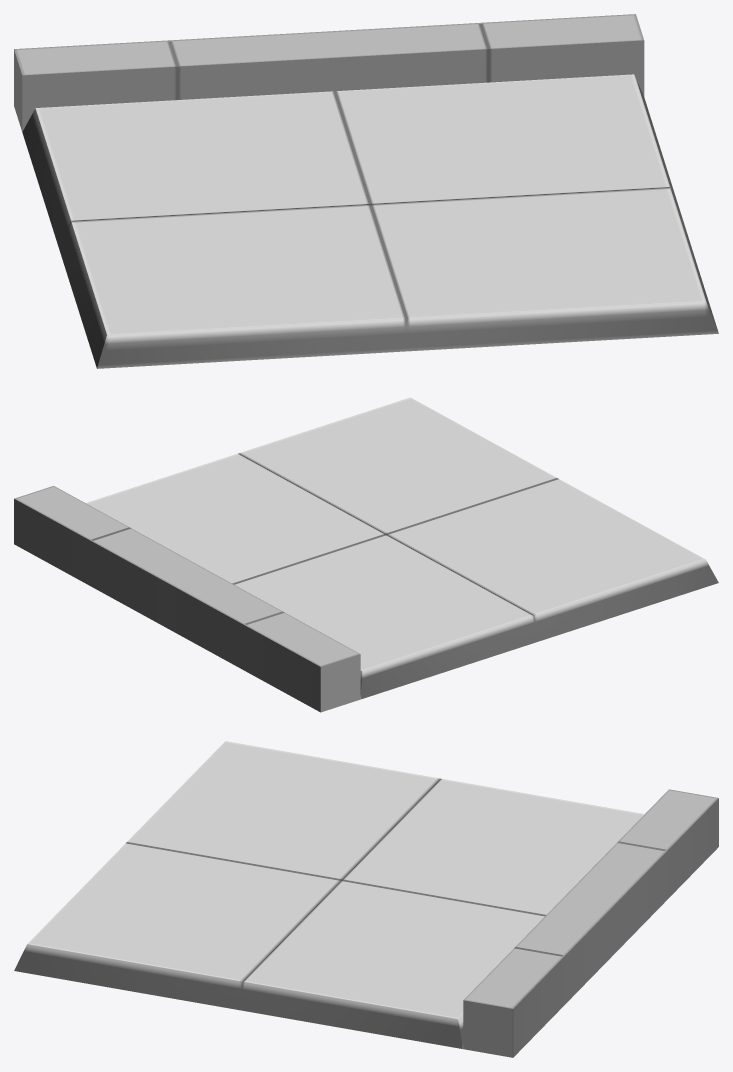
The model's file is Pavement Diagonal.fbx.
3 renders of one model, top to bottom at view 1: azimuth 30°, elevation 25°; view 2: azimuth 150°, elevation 25°; view 3: azimuth 270°, elevation 25°, orthographic. The views are drawn at different scales.
Visible parts, largest first — view 1: Straight; view 2: Straight; view 3: Straight.
Part boxes in pixels (<box>): Straight: <box>14,14,718,368</box>; Straight: <box>14,397,718,712</box>; Straight: <box>14,741,718,1057</box>.
Bounding box in the file's own units: 261 × 20 × 261.
